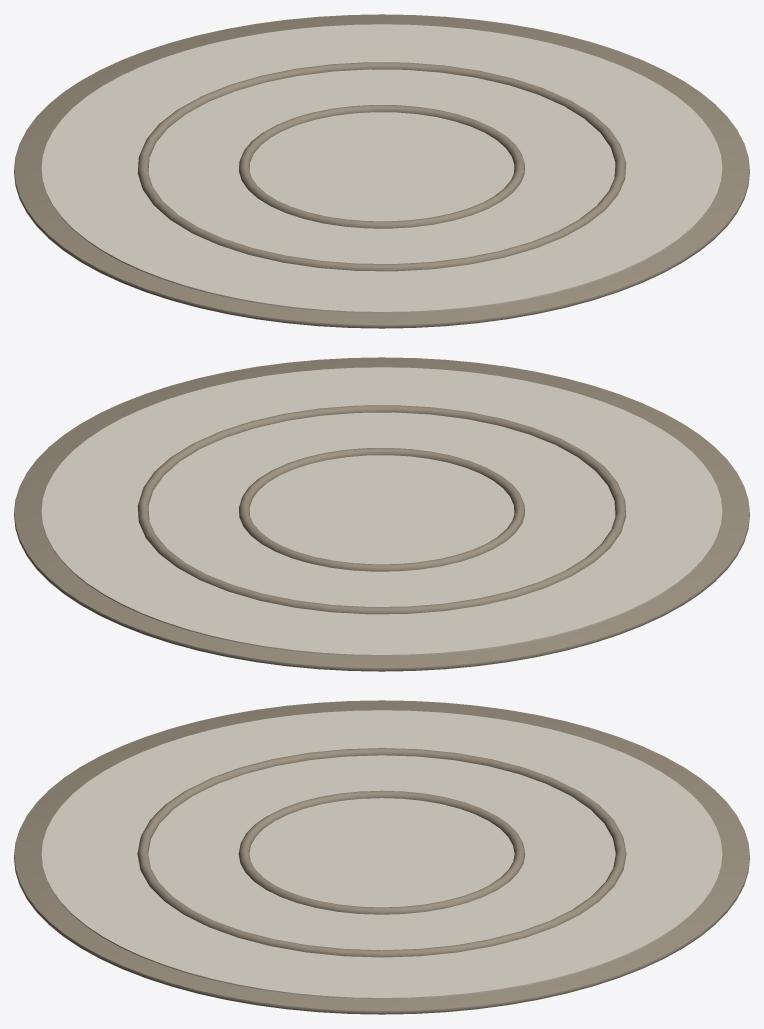
File: rug_round.glb
3 renders of one model, top to bottom at view 1: azimuth 30°, elevation 25°; view 2: azimuth 150°, elevation 25°; view 3: azimuth 270°, elevation 25°, orthographic.
Parts seen in each view (by area): view 1: cyl.001, cyl, torus, torus.001; view 2: cyl.001, cyl, torus, torus.001; view 3: cyl.001, cyl, torus, torus.001.
Part boxes in pixels (x1=…): cyl.001: x1=41, y1=24, x2=722, y2=313; cyl: x1=14, y1=14, x2=749, y2=328; torus: x1=137, y1=62, x2=626, y2=271; torus.001: x1=239, y1=105, x2=524, y2=228; cyl.001: x1=41, y1=367, x2=722, y2=656; cyl: x1=14, y1=357, x2=749, y2=671; torus: x1=137, y1=405, x2=626, y2=614; torus.001: x1=239, y1=448, x2=524, y2=571; cyl.001: x1=41, y1=710, x2=722, y2=999; cyl: x1=14, y1=700, x2=749, y2=1014; torus: x1=137, y1=748, x2=626, y2=957; torus.001: x1=238, y1=790, x2=525, y2=914.
Size of the model in its own units: 160 by 2.34 by 160.
